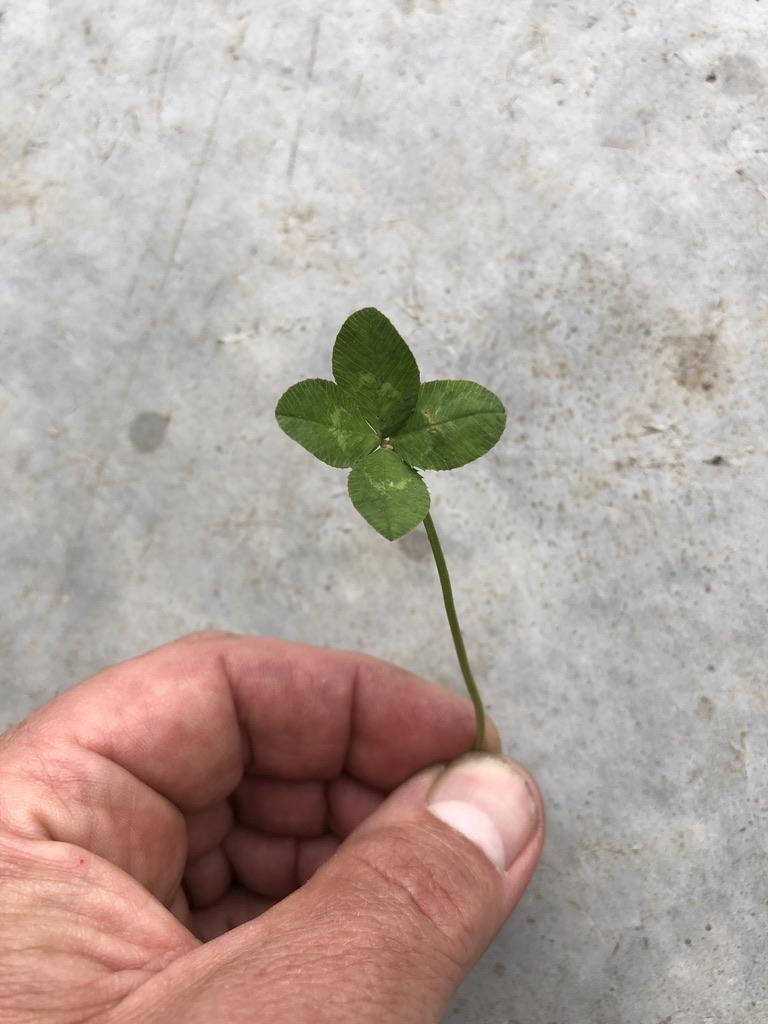4-Leaf-Clovers: (276, 304, 504, 547)
